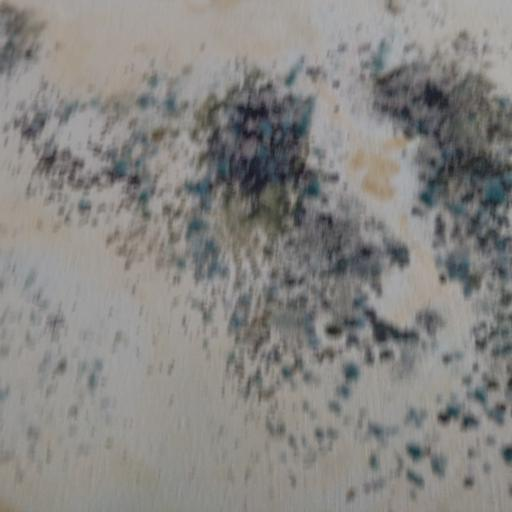algae: (25, 43, 512, 512)
